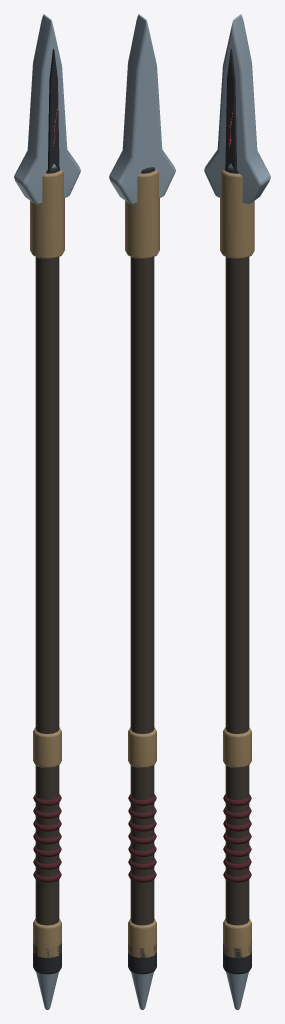
The model's file is dawn-pike.glb.
The picture shows the model from 3 angles, left to right: view 1: azimuth 30°, elevation 25°; view 2: azimuth 210°, elevation 25°; view 3: azimuth 330°, elevation 25°; orthographic projection.
Parts seen in each view (by area): view 1: Walnut haft.002, Spire forged blade.006, Spear socket, Recessed angular fuller.005, Brass ferrule.007, Brass ferrule.006, Fitted bottom socket, Pike tapered steel shoe, Haft wrap.014, Haft wrap.018, Haft wrap.017, Haft wrap.015 (+2 smaller); view 2: Walnut haft.002, Spire forged blade.006, Spear socket, Brass ferrule.007, Brass ferrule.006, Fitted bottom socket, Pike tapered steel shoe, Haft wrap.014, Haft wrap.018, Haft wrap.017, Haft wrap.015, Haft wrap.020 (+1 smaller); view 3: Walnut haft.002, Spire forged blade.006, Spear socket, Recessed angular fuller.005, Brass ferrule.007, Brass ferrule.006, Fitted bottom socket, Pike tapered steel shoe, Haft wrap.018, Haft wrap.014, Haft wrap.017, Haft wrap.016 (+3 smaller).
Part boxes in pixels (bbox=[...]): Walnut haft.002: bbox=[35, 257, 59, 925]; Spire forged blade.006: bbox=[14, 14, 80, 204]; Spear socket: bbox=[30, 170, 64, 258]; Recessed angular fuller.005: bbox=[48, 49, 59, 171]; Brass ferrule.007: bbox=[33, 727, 61, 768]; Brass ferrule.006: bbox=[33, 919, 61, 957]; Fitted bottom socket: bbox=[33, 943, 61, 974]; Pike tapered steel shoe: bbox=[36, 972, 58, 1009]; Haft wrap.014: bbox=[33, 870, 61, 882]; Haft wrap.018: bbox=[33, 819, 61, 831]; Haft wrap.017: bbox=[33, 832, 61, 844]; Haft wrap.015: bbox=[33, 858, 61, 869]; Walnut haft.002: bbox=[130, 257, 154, 925]; Spire forged blade.006: bbox=[109, 14, 175, 204]; Spear socket: bbox=[125, 170, 159, 258]; Brass ferrule.007: bbox=[128, 727, 156, 768]; Brass ferrule.006: bbox=[128, 919, 156, 957]; Fitted bottom socket: bbox=[128, 943, 156, 974]; Pike tapered steel shoe: bbox=[131, 972, 153, 1009]; Haft wrap.014: bbox=[128, 870, 156, 882]; Haft wrap.018: bbox=[128, 819, 156, 831]; Haft wrap.017: bbox=[128, 832, 156, 844]; Haft wrap.015: bbox=[128, 858, 156, 869]; Haft wrap.020: bbox=[128, 794, 156, 806]; Walnut haft.002: bbox=[225, 257, 249, 925]; Spire forged blade.006: bbox=[204, 14, 270, 204]; Spear socket: bbox=[220, 170, 254, 258]; Recessed angular fuller.005: bbox=[225, 48, 236, 171]; Brass ferrule.007: bbox=[223, 727, 251, 768]; Brass ferrule.006: bbox=[223, 919, 251, 957]; Fitted bottom socket: bbox=[223, 943, 251, 974]; Pike tapered steel shoe: bbox=[226, 972, 248, 1009]; Haft wrap.018: bbox=[223, 819, 251, 831]; Haft wrap.014: bbox=[223, 870, 251, 882]; Haft wrap.017: bbox=[223, 832, 251, 844]; Haft wrap.016: bbox=[223, 845, 251, 857].
Bounding box in the file's own units: 0.1441 × 2.34 × 0.074.
